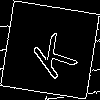K: (25, 25, 79, 82)
